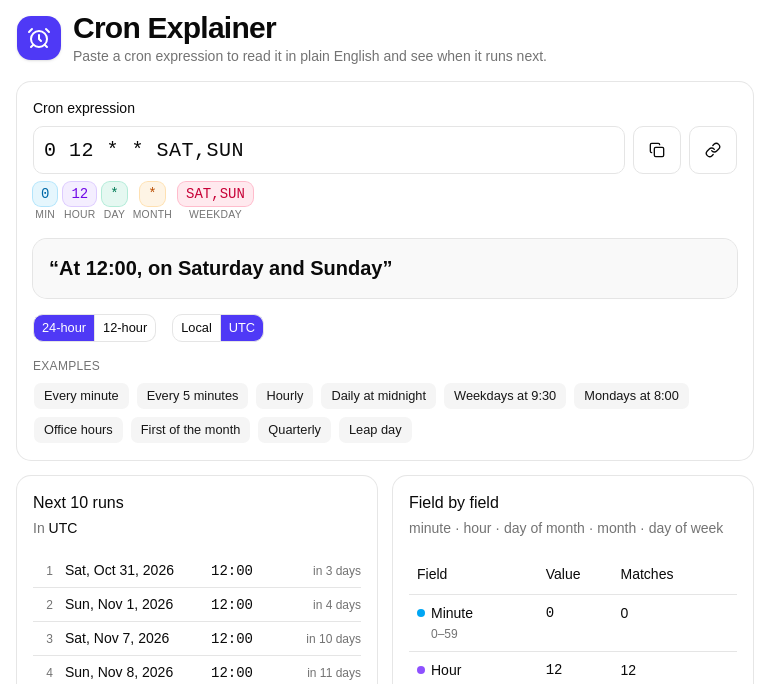
Test: copying and sharing › keeps the expression in the URL and reads it back
Replace the text in the field labelled "Cron expression" with "*/5 * * * *" at (329, 150), box [33,126,625,174]
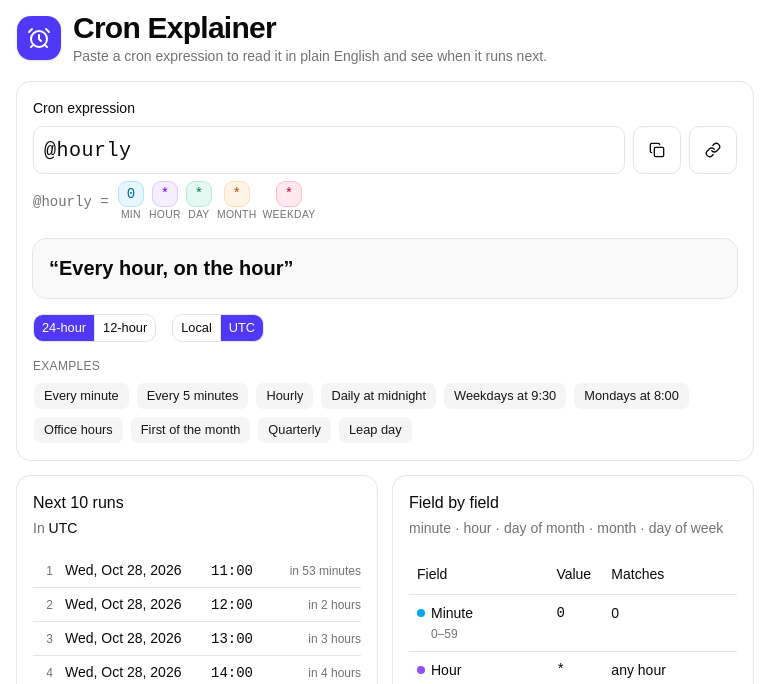
Expected: the field labelled "Cron expression" holds "@hourly", [33,126,625,174]
